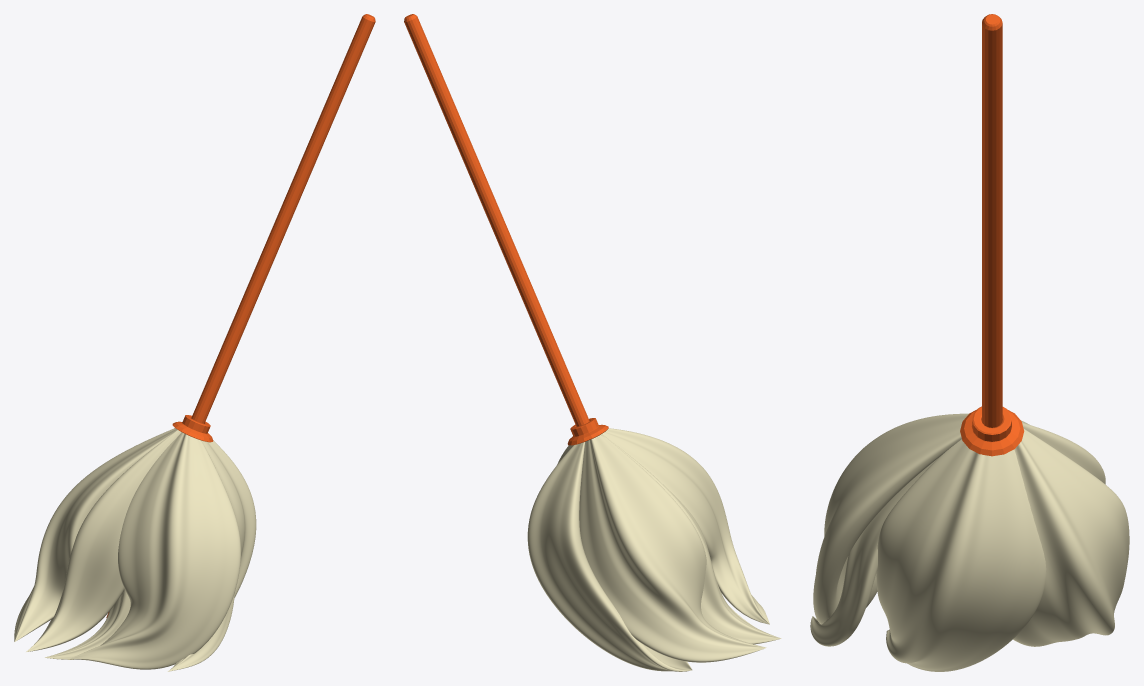
The model's file is mopFINAL.fbx.
3 renders of one model, left to right at view 1: azimuth 30°, elevation 25°; view 2: azimuth 150°, elevation 25°; view 3: azimuth 270°, elevation 25°, orthographic. The views are drawn at different scales.
Visible parts, largest first — view 1: NurbsPath.003, NurbsPath.001, Cylinder.001, NurbsPath.005, NurbsPath.006, NurbsPath.002, NurbsPath.004, Cylinder; view 2: NurbsPath.005, NurbsPath.007, NurbsPath.003, Cylinder.001, NurbsPath.001, Cylinder; view 3: NurbsPath.006, NurbsPath.007, NurbsPath.003, Cylinder.001, NurbsPath.004, Cylinder, NurbsPath.005.
Part boxes in pixels (x1,y1,x2,y2): NurbsPath.003: (68, 432, 240, 669); NurbsPath.001: (26, 430, 181, 651); Cylinder.001: (106, 14, 375, 617); NurbsPath.005: (14, 428, 178, 641); NurbsPath.006: (202, 440, 256, 597); NurbsPath.002: (45, 589, 130, 659); NurbsPath.004: (167, 593, 234, 671); Cylinder: (172, 415, 213, 442); NurbsPath.005: (579, 435, 766, 662); NurbsPath.007: (527, 442, 692, 671); NurbsPath.003: (602, 428, 769, 624); Cylinder.001: (404, 14, 589, 426); NurbsPath.001: (600, 434, 781, 644); Cylinder: (567, 418, 608, 445); NurbsPath.006: (876, 439, 1046, 671); NurbsPath.007: (1013, 429, 1129, 646); NurbsPath.003: (813, 413, 968, 624); Cylinder.001: (982, 14, 1002, 427); NurbsPath.004: (810, 458, 937, 646); Cylinder: (960, 406, 1024, 456); NurbsPath.005: (1021, 420, 1105, 484).
Bounding box in the file's own units: 408 × 602 × 218.
